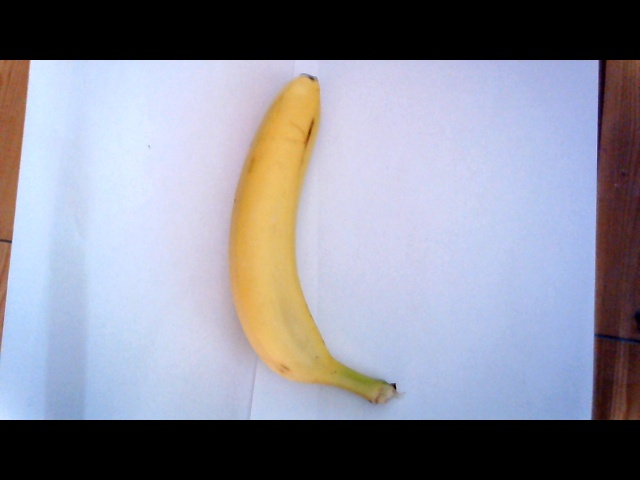banana: (224, 77, 398, 410)
